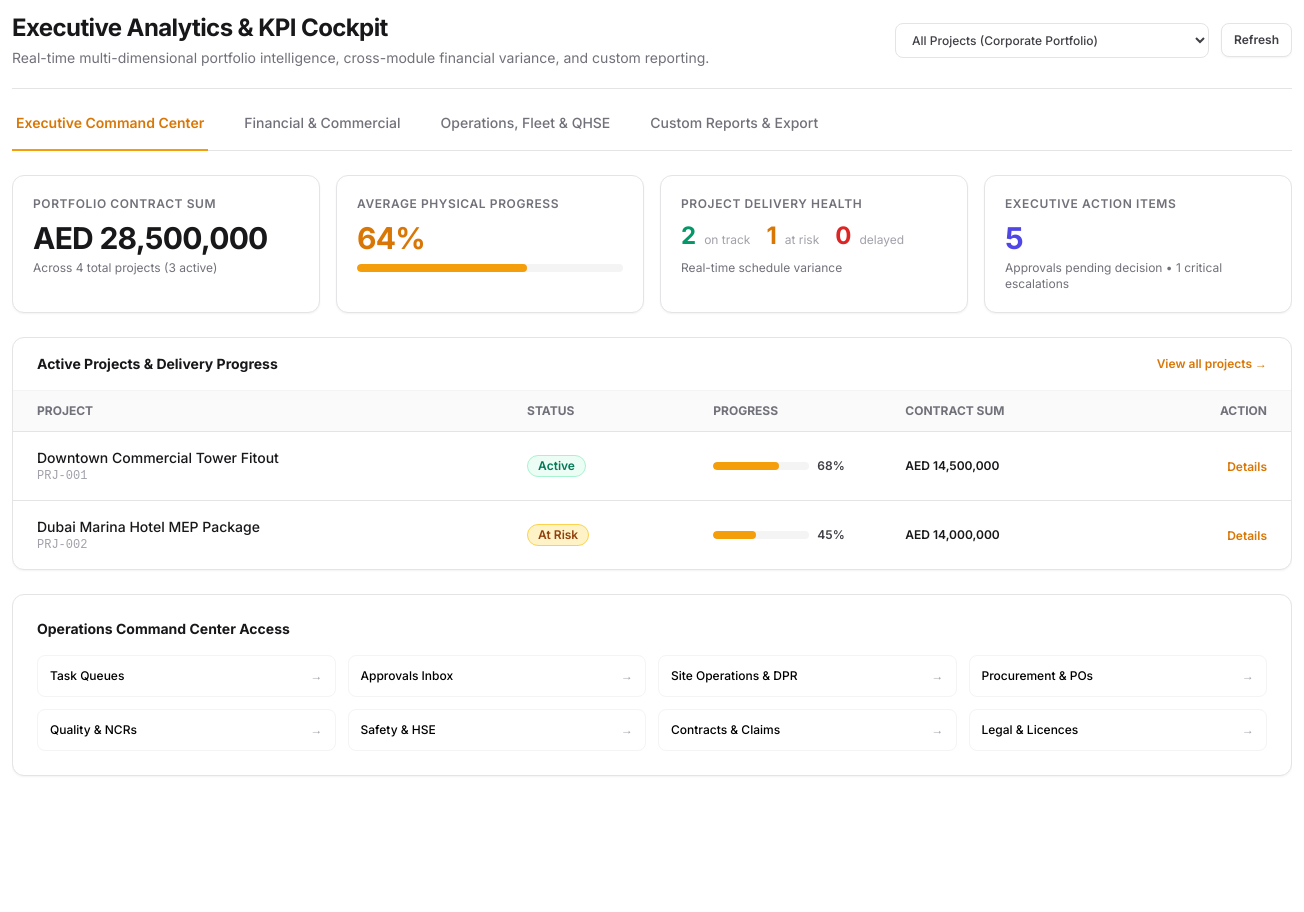
Test case: DashboardPage › navigates to the Financial & Commercial tab and shows budget variance
Click the button "Financial & Commercial": (322, 132) [240,113,405,151]
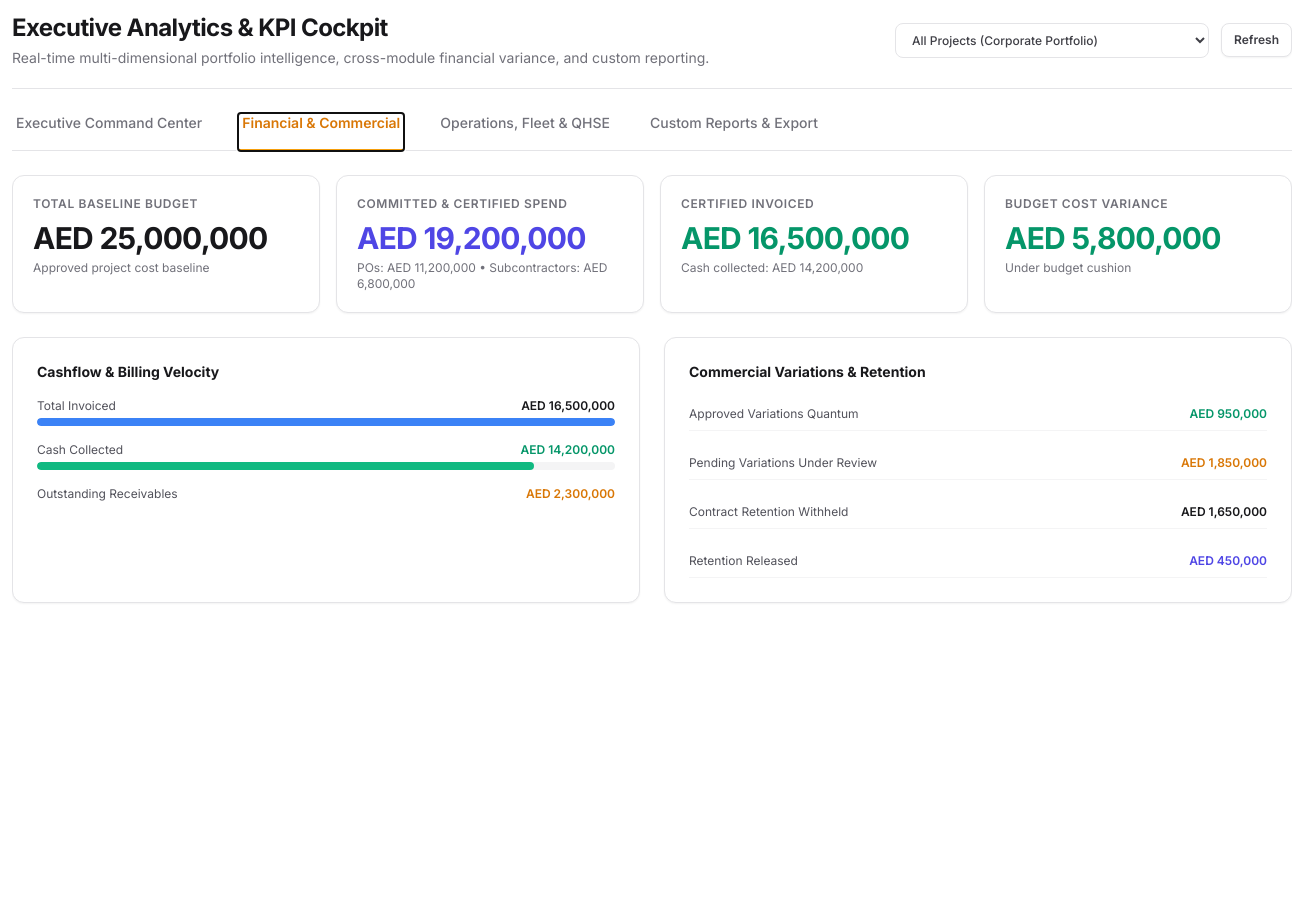
expect the text "Total Baseline Budget" is shown: met, box [33,196,198,211]
expect the text "AED 25,000,000" is shown: met, box [33,220,299,256]
expect the text "Budget Cost Variance" is shown: met, box [1005,196,1168,211]
